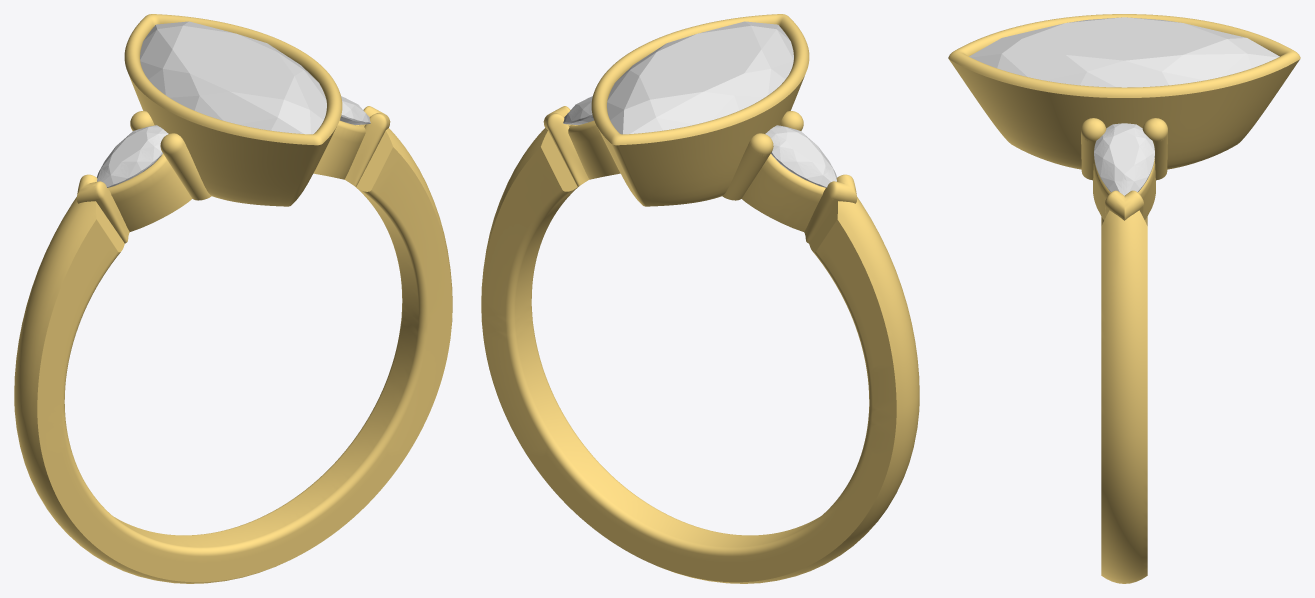
File: JustinV1YG_blender.glb
3 views of the same model, side by side, from view 1: azimuth 30°, elevation 25°; view 2: azimuth 150°, elevation 25°; view 3: azimuth 270°, elevation 25° (orthographic).
Parts seen in each view (by area): view 1: Justin YG for 3d model, Justin marquise dia for 3d model, Justin pear dia for 3d model.001, Justin pear dia for 3d model; view 2: Justin YG for 3d model, Justin marquise dia for 3d model, Justin pear dia for 3d model.001, Justin pear dia for 3d model; view 3: Justin YG for 3d model, Justin marquise dia for 3d model, Justin pear dia for 3d model.
Boxes of the visible parts, box(x1,y1,x2,y2) form: Justin YG for 3d model: box(14, 14, 452, 583); Justin marquise dia for 3d model: box(140, 21, 326, 134); Justin pear dia for 3d model.001: box(97, 125, 168, 187); Justin pear dia for 3d model: box(340, 96, 370, 124); Justin YG for 3d model: box(481, 14, 919, 583); Justin marquise dia for 3d model: box(607, 21, 793, 134); Justin pear dia for 3d model.001: box(765, 125, 836, 187); Justin pear dia for 3d model: box(563, 96, 593, 124); Justin YG for 3d model: box(948, 14, 1300, 583); Justin marquise dia for 3d model: box(969, 17, 1279, 87); Justin pear dia for 3d model: box(1094, 123, 1154, 195).
Size of the model in its own units: 20.72 by 23.65 by 14.49.
